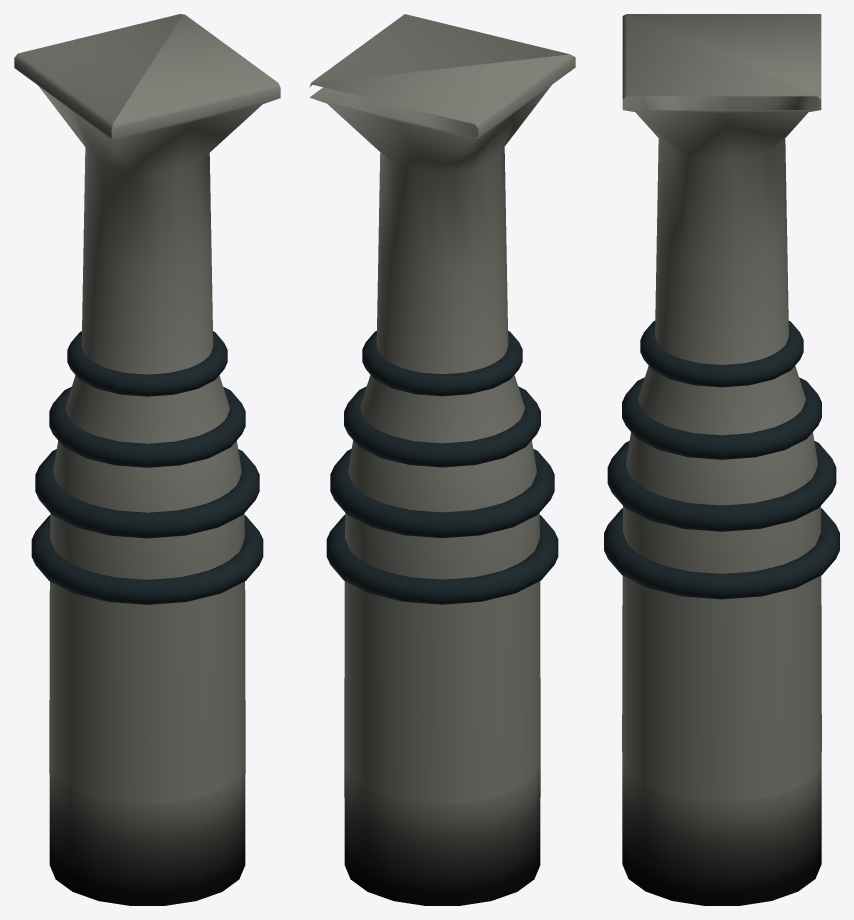
Rendered from CA_137_cosmodrome_support_pillar.glb.
3 renders of one model, left to right at view 1: azimuth 30°, elevation 25°; view 2: azimuth 150°, elevation 25°; view 3: azimuth 270°, elevation 25°, orthographic.
Parts seen in each view (by area): view 1: pillar, rings; view 2: pillar, rings; view 3: pillar, rings.
Boxes of the visible parts, left/top/right/bottom form: pillar: left=14, top=14, right=280, bottom=905; rings: left=31, top=331, right=263, bottom=604; pillar: left=309, top=14, right=575, bottom=905; rings: left=326, top=331, right=558, bottom=604; pillar: left=622, top=14, right=821, bottom=905; rings: left=604, top=321, right=839, bottom=599.
Bounding box in the file's own units: 0.9051 × 3.38 × 0.8913.
Materials: 3 (1 with a texture image).
